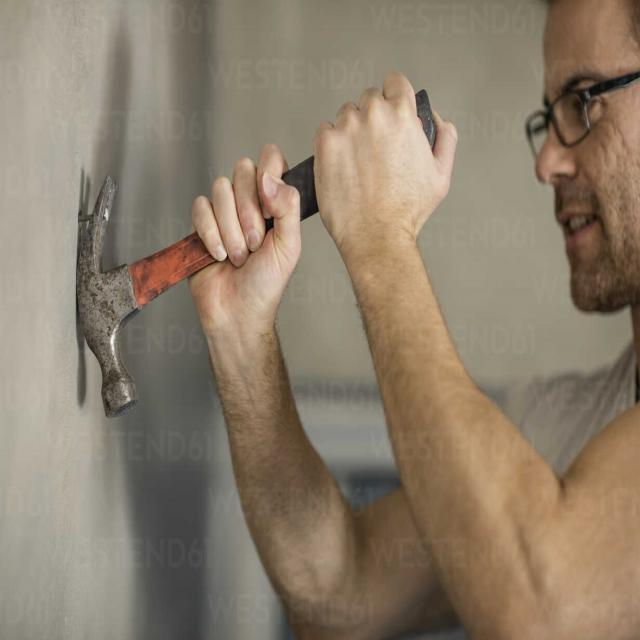hammer: (64, 66, 442, 427)
